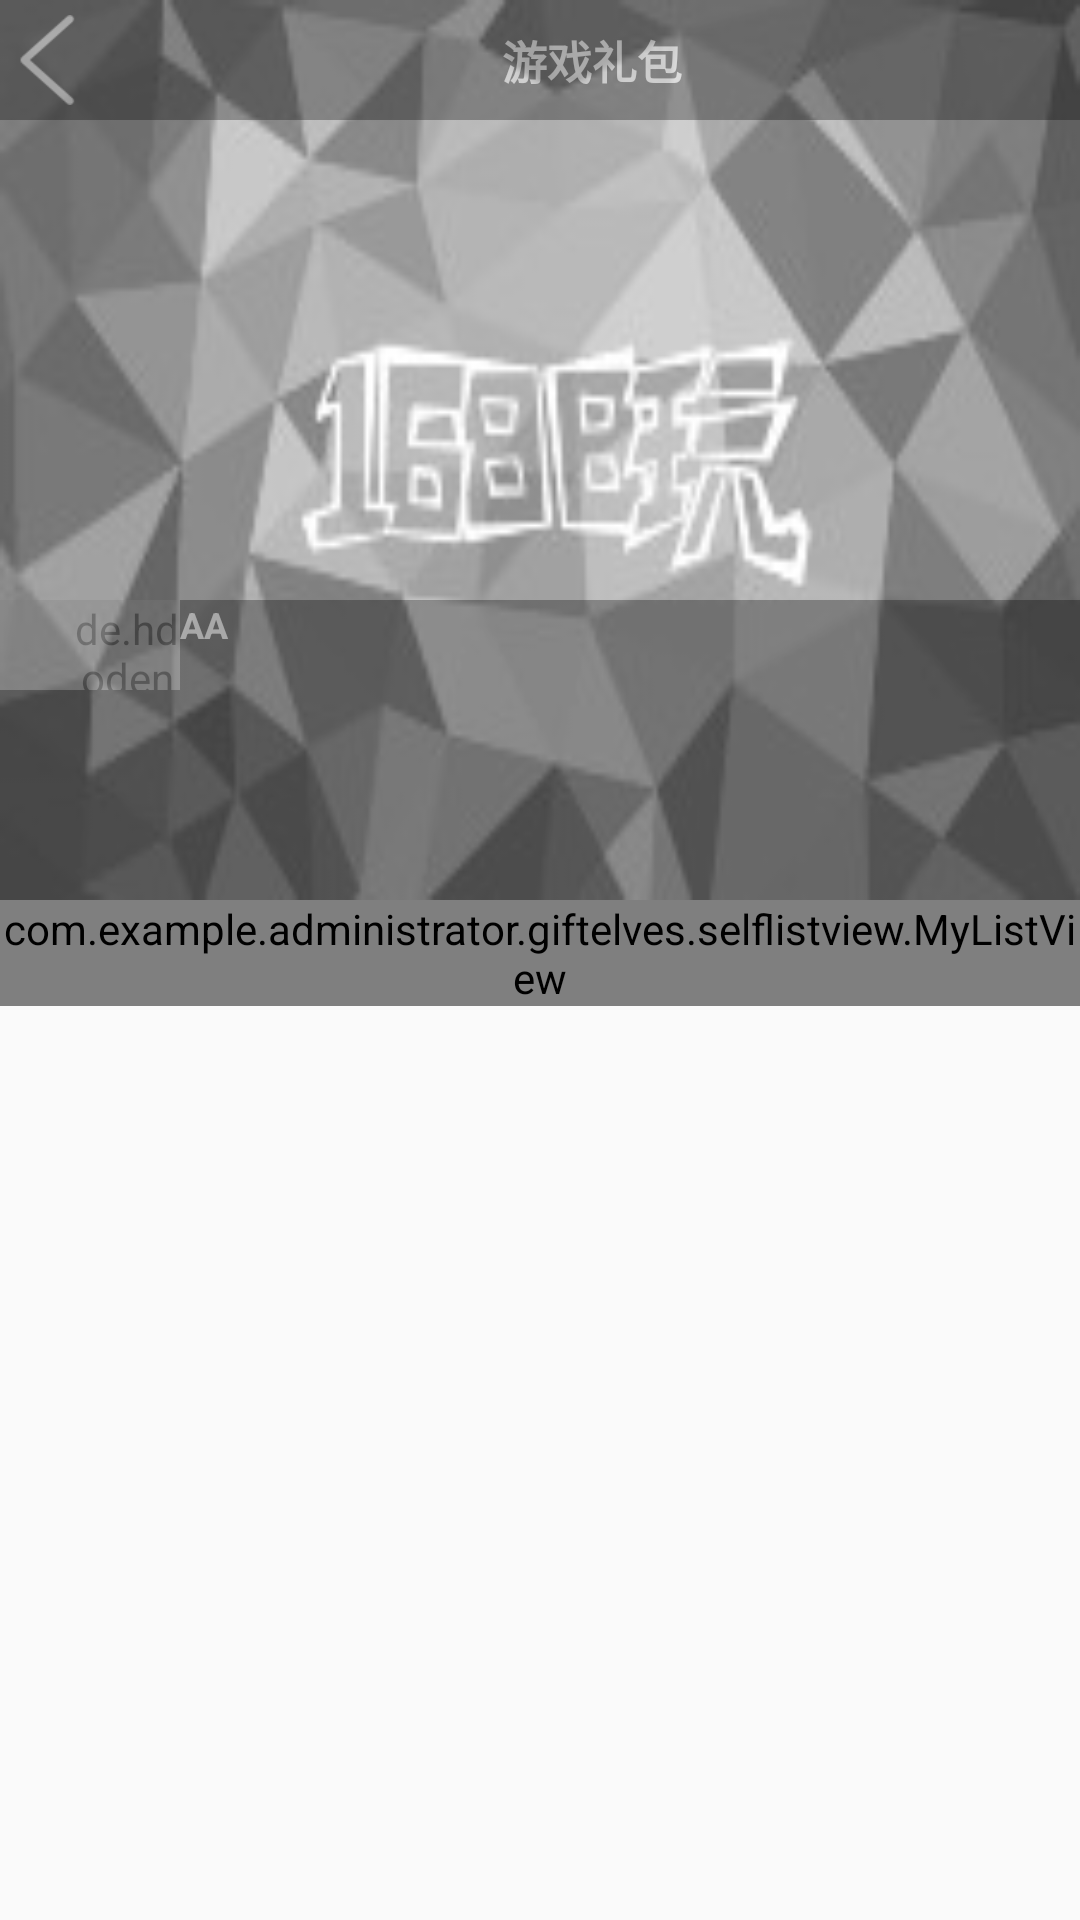

Icons on this 1080px×1920px Android screen, each with its box as bbox=[x1, y1, x2, y2]:
back: bbox=[20, 15, 74, 105]
